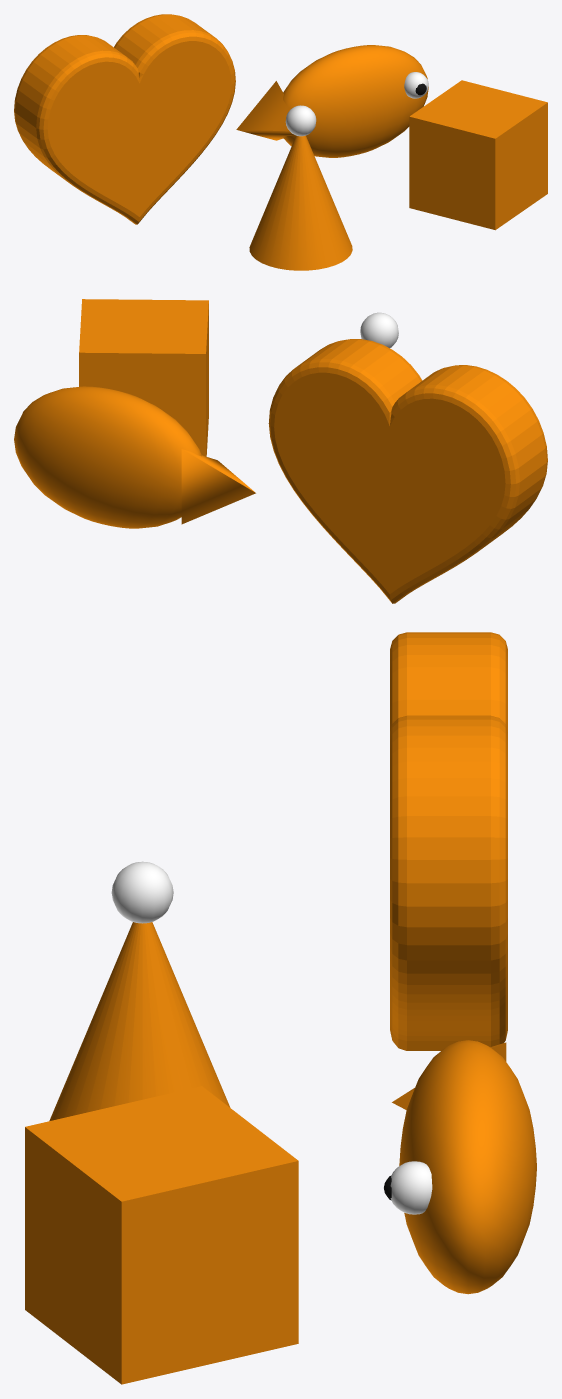
The model's file is orange.glb.
The picture shows the model from 3 angles, top to bottom: view 1: azimuth 30°, elevation 25°; view 2: azimuth 150°, elevation 25°; view 3: azimuth 270°, elevation 25°; orthographic projection. The views are drawn at different scales.
Parts seen in each view (by area): view 1: heart, cube, fish, hat, object 3; view 2: heart, fish, cube, hat; view 3: cube, heart, fish, hat, object 3.
Part boxes in pixels (x1,y1,x2,y2): heart: (14, 14, 235, 224); cube: (409, 80, 547, 230); fish: (236, 45, 428, 157); hat: (249, 105, 352, 270); object 3: (404, 72, 428, 98); heart: (268, 339, 547, 603); fish: (14, 386, 255, 528); cube: (79, 299, 208, 456); hat: (360, 312, 398, 348); cube: (25, 1086, 298, 1384); heart: (390, 632, 507, 1050); fish: (392, 1040, 536, 1294); hat: (49, 861, 230, 1120); object 3: (390, 1161, 432, 1214).
Bounding box in the file's own units: 2.66 × 1.05 × 1.34.
